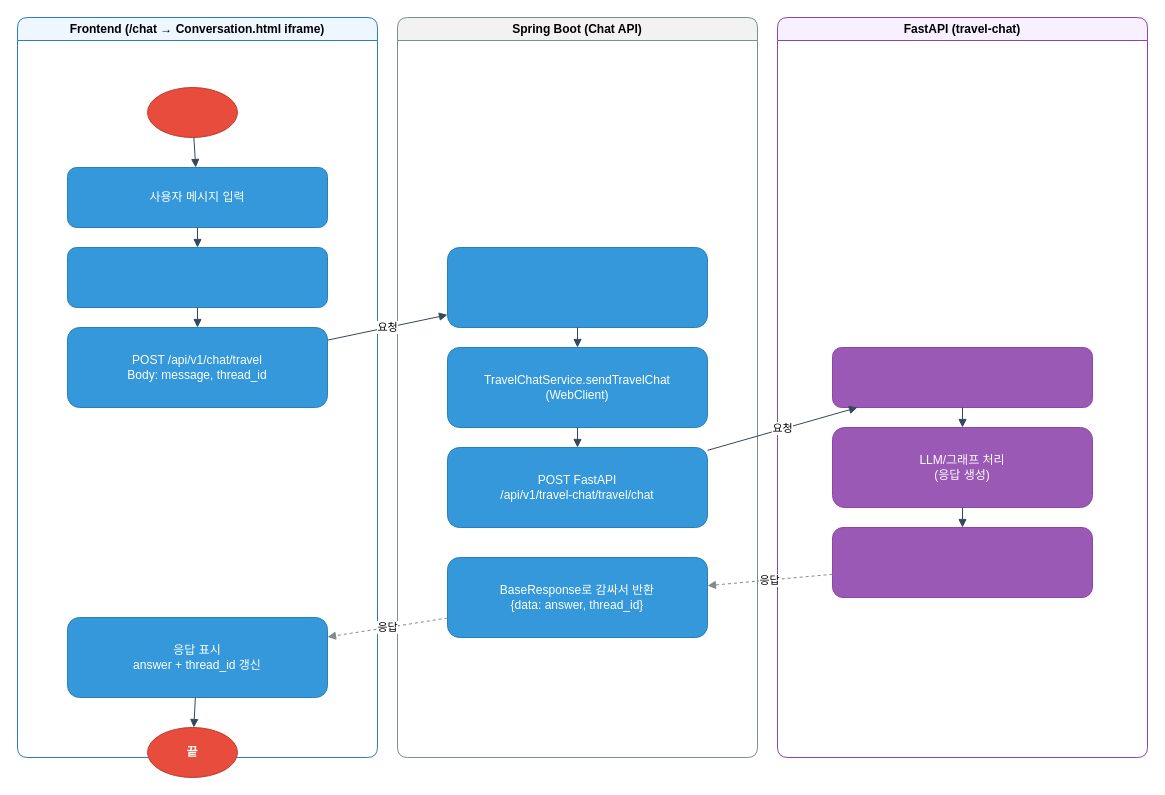
Image size: 1165x795. Some labels were removed from this diagram. The centre of each missing label's shape, as x and y in pixels:
ChatController POST /api/v1/chat/travel: the point at 577,287
FastAPI travel-chat 수신: the point at 962,377
thread_id 생성/유지: the point at 197,277
시작: the point at 192,112
응답 반환 answer + thread_id: the point at 962,562
